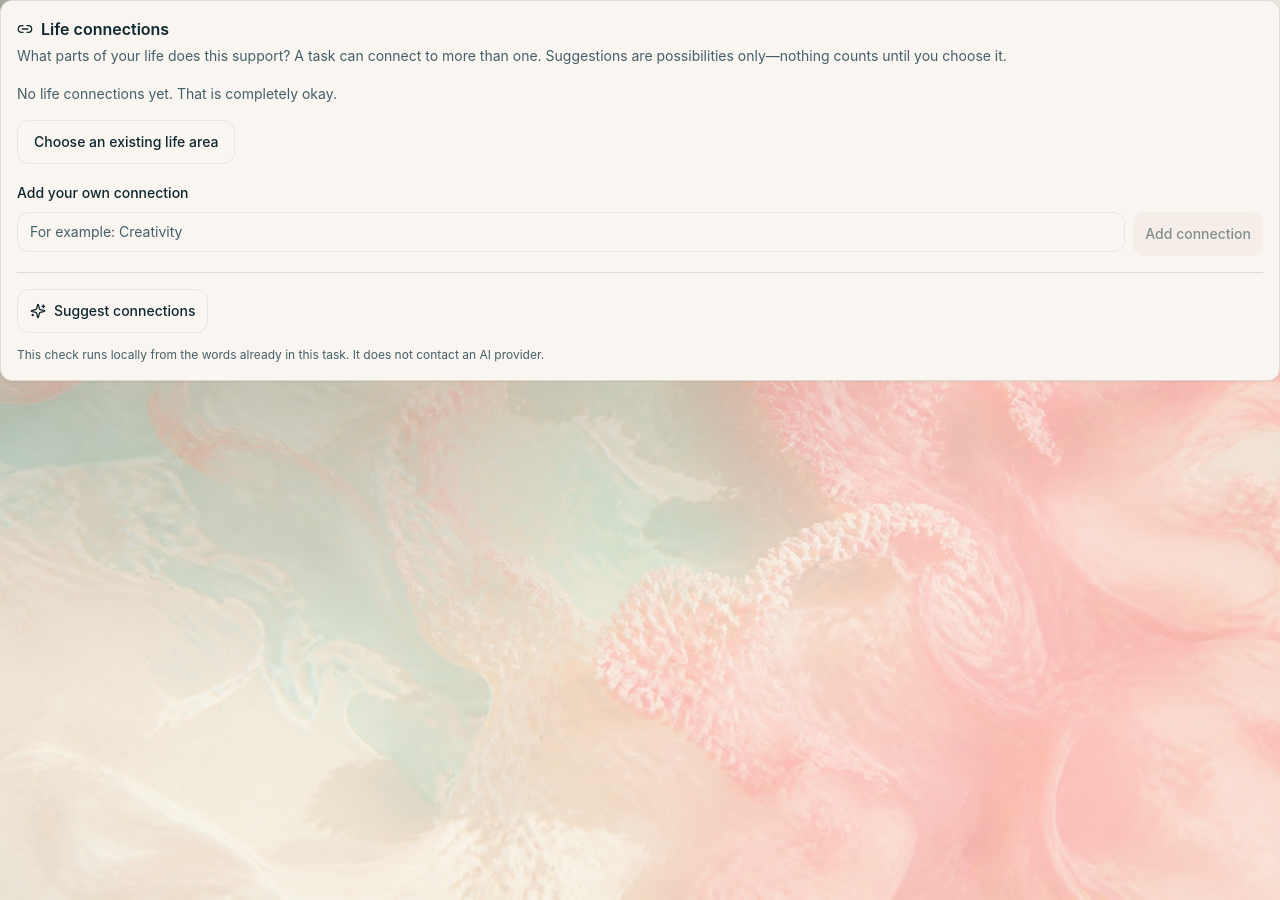
Test case: LifeConnectionsEditor effects › shows an understood pending tradeoff before explicit confirmation and preserves its grounding
Click the button "Suggest connections". click: (113, 311)
box: [17,289,208,333]
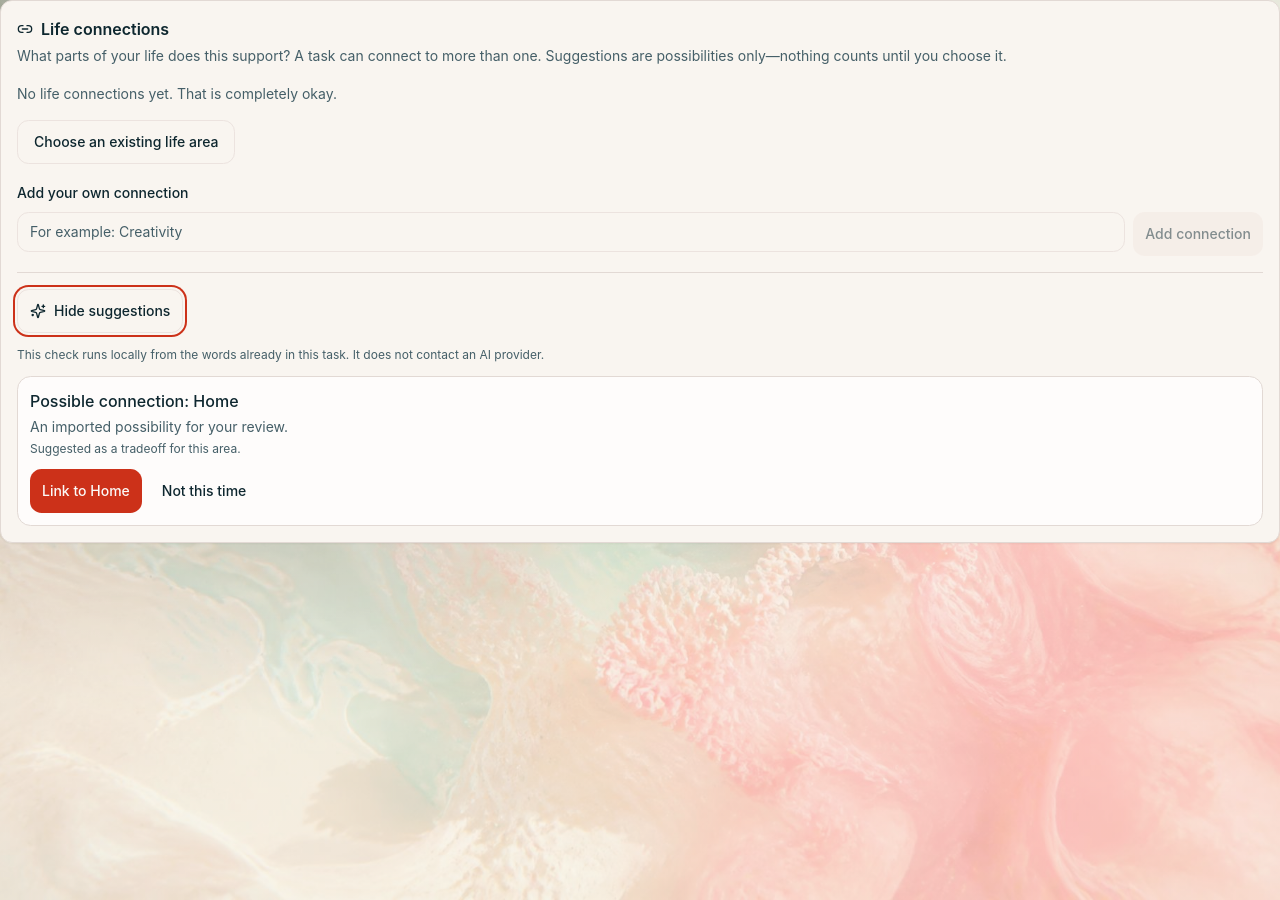
Expected: the text "Suggested as a tradeoff for this area." is shown, [30,441,241,456]
Click the button "Link to Home". click: (86, 491)
box: [30,469,142,513]
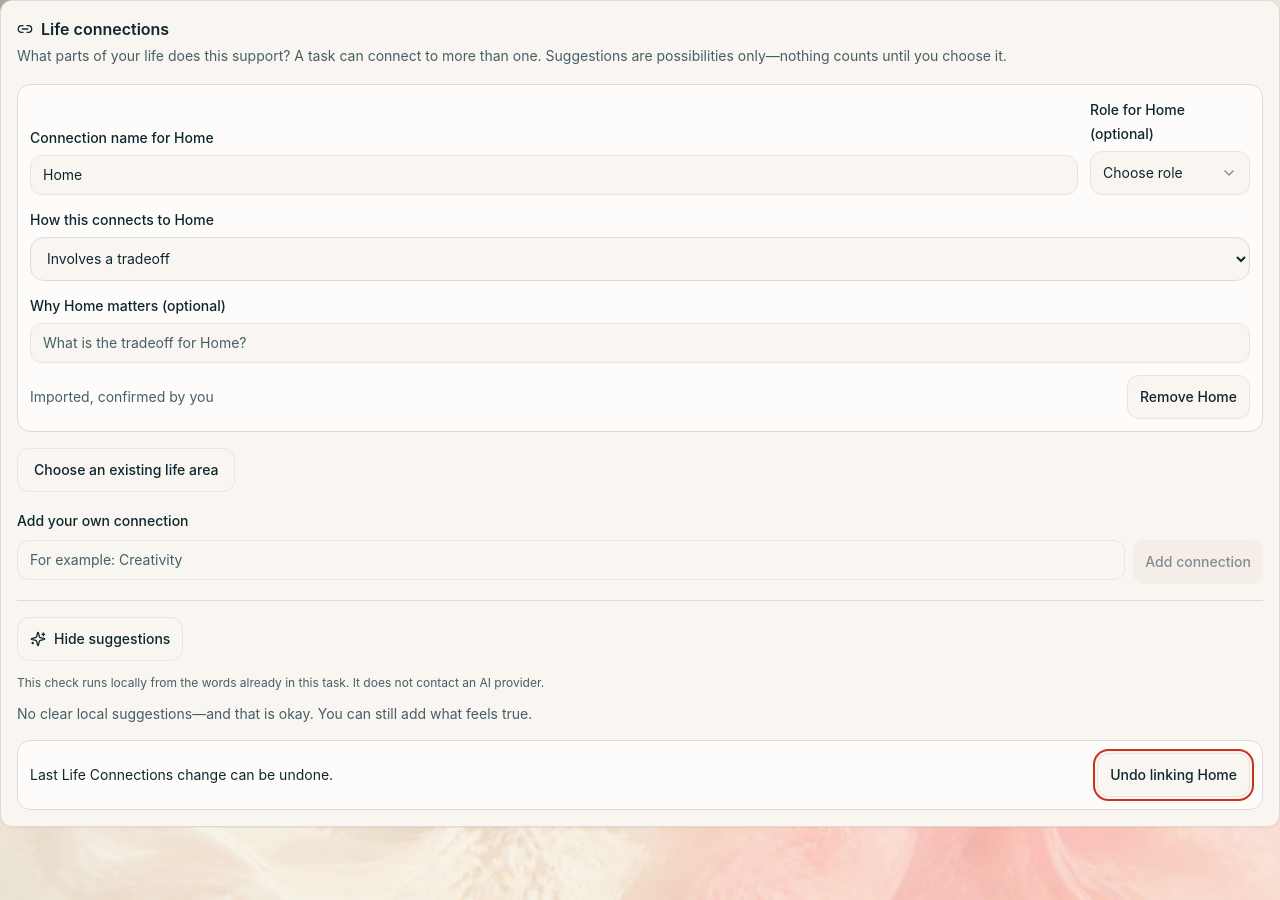
Expected: the dropdown labelled "How this connects to Home" shows "Involves a tradeoff", [30,237,1250,281]
